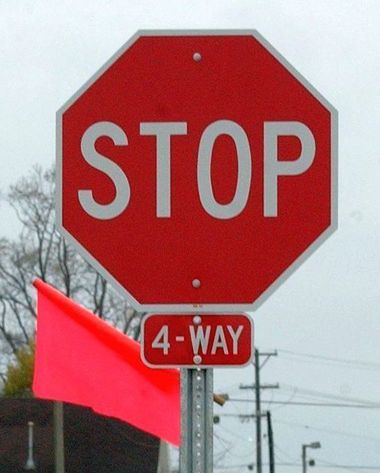stopsign: (54, 27, 339, 313)
